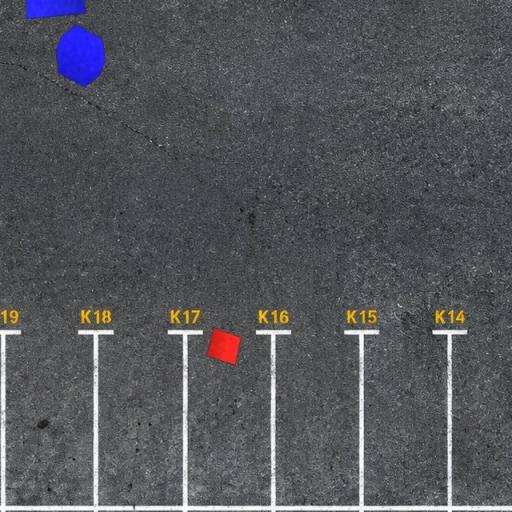RED_SQUARE: (206, 327, 242, 366)
